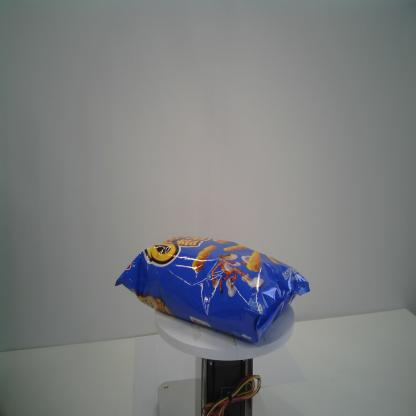Puffed Food: (113, 233, 314, 348)
